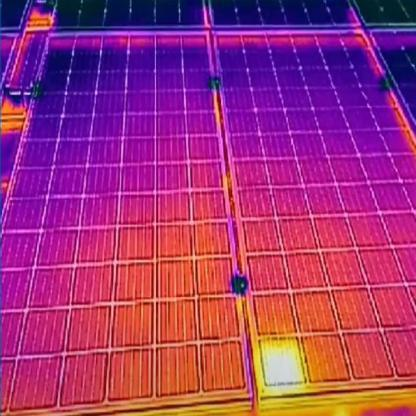anomaly: (246, 333, 310, 405)
